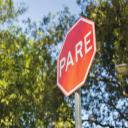Pare: (56, 15, 99, 100)
